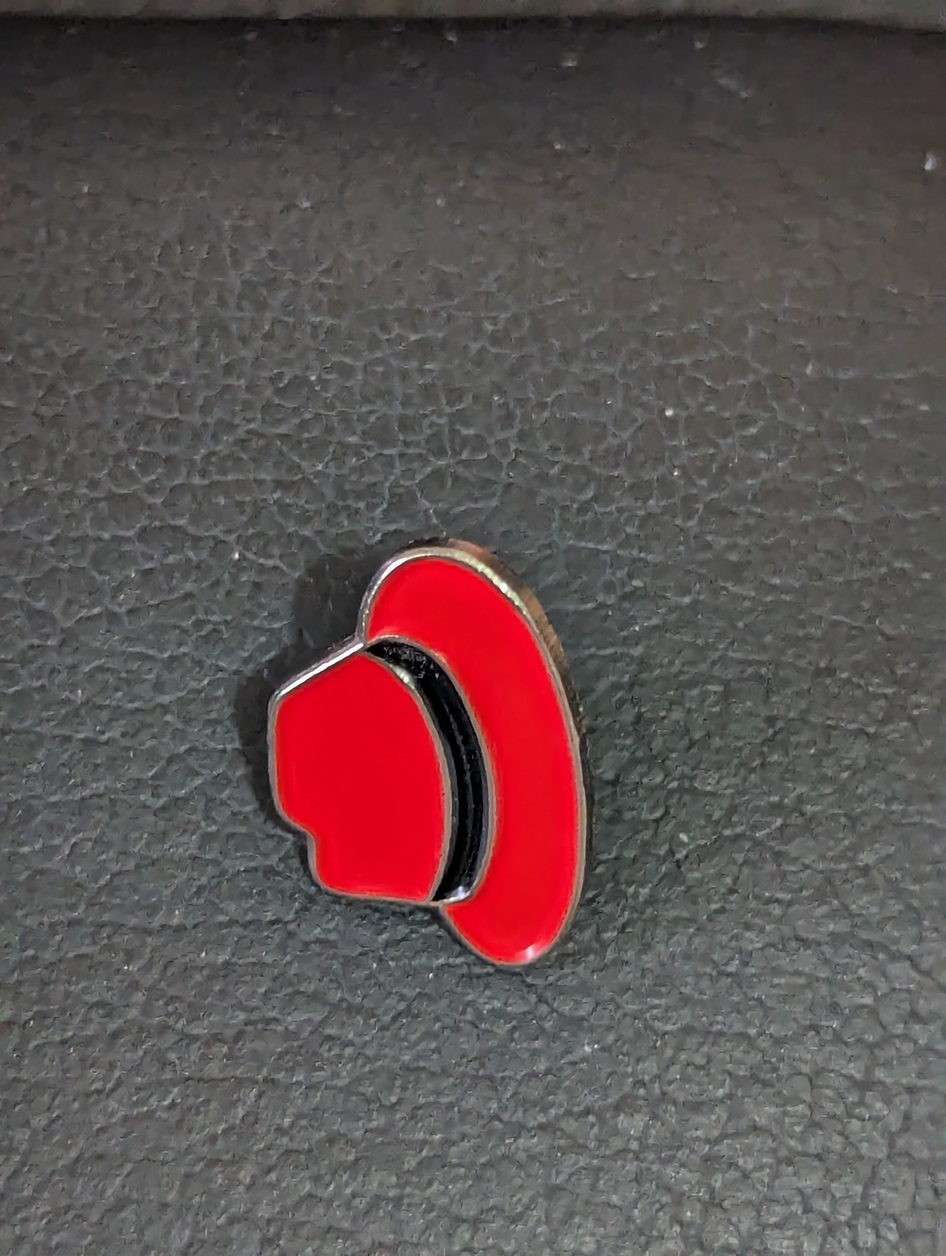Red-Hat: (116, 418, 710, 1075)
